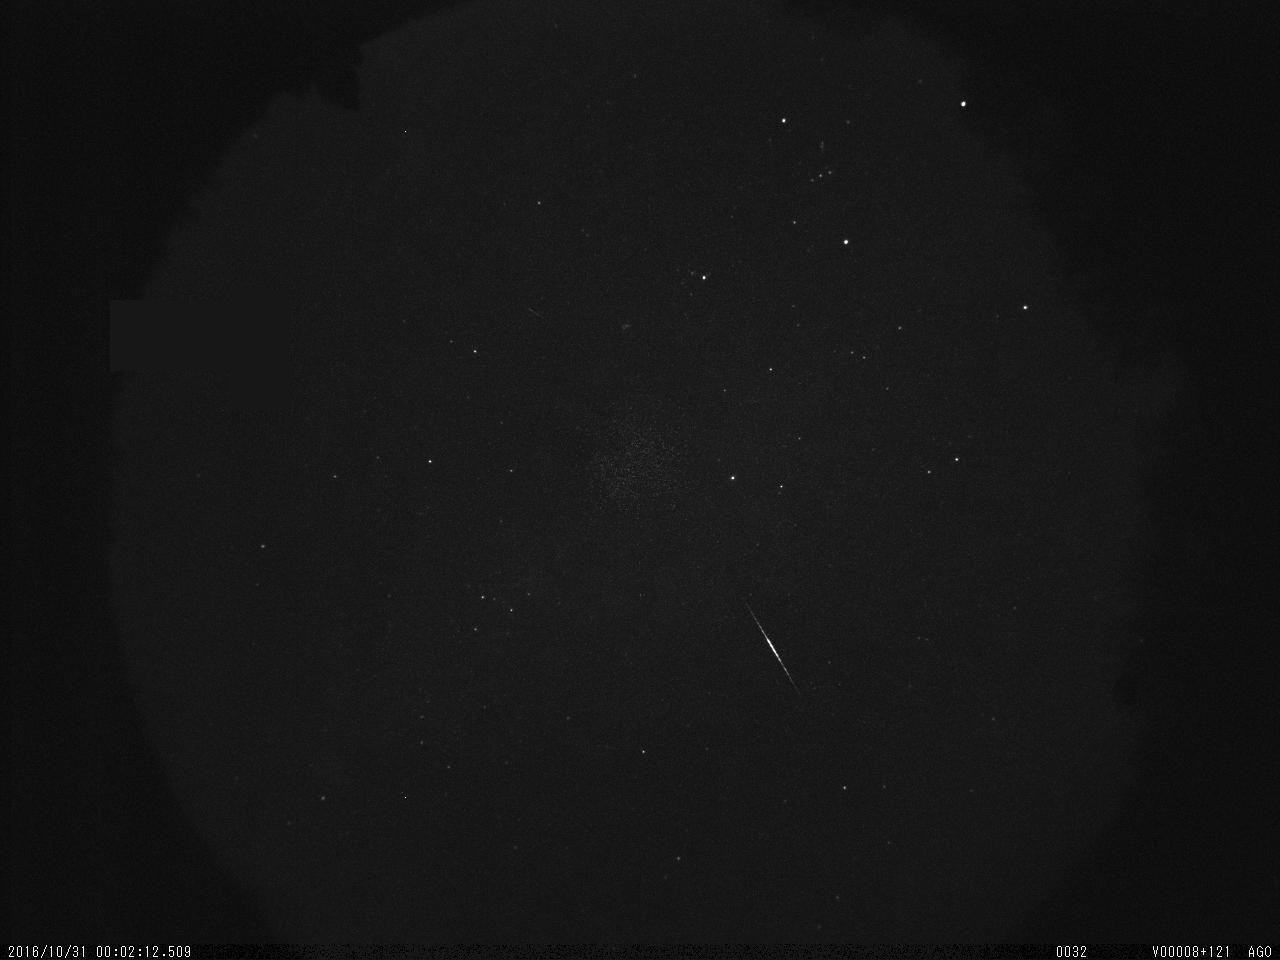meteor: (730, 584, 830, 724)
